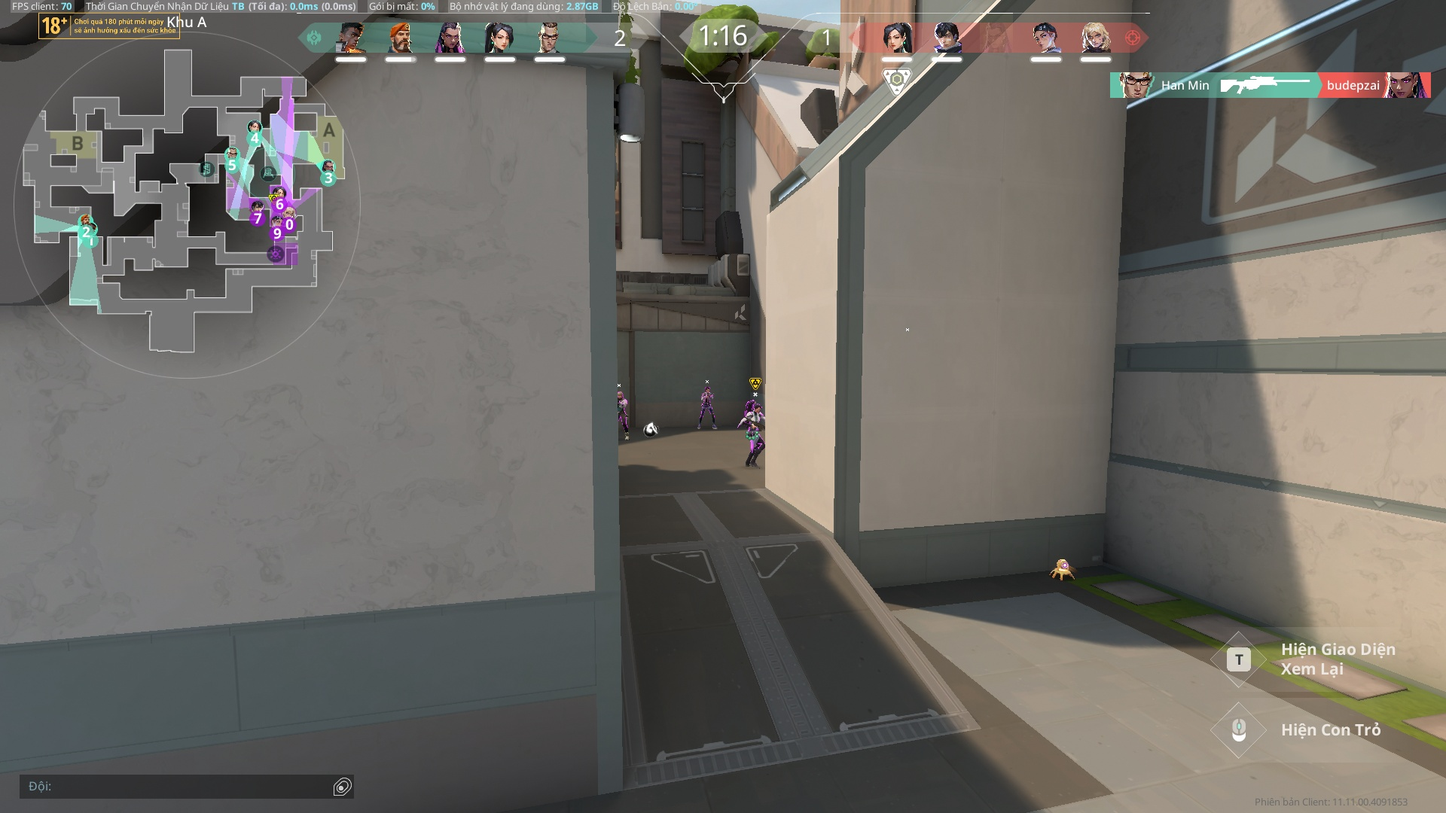body: (746, 410, 763, 434), (700, 391, 712, 405), (617, 397, 627, 413)
head: (752, 402, 760, 412), (703, 385, 710, 391), (618, 390, 624, 397)
